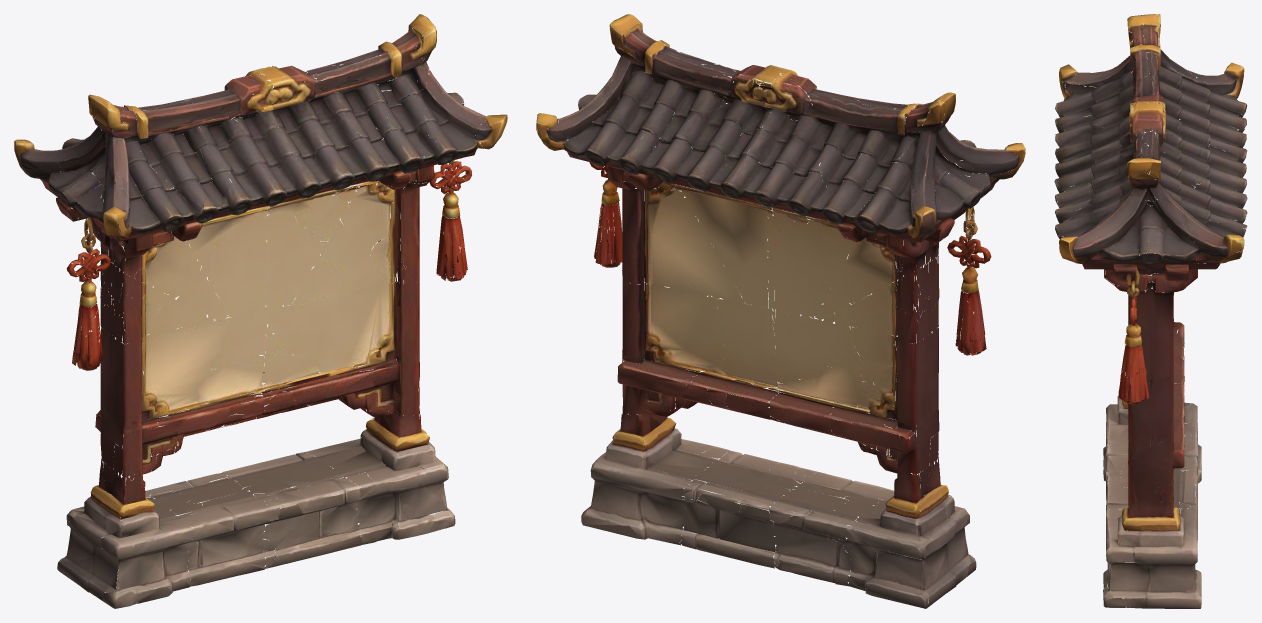
File: noticeboard_25k.glb
3 views of the same model, side by side, from view 1: azimuth 30°, elevation 25°; view 2: azimuth 150°, elevation 25°; view 3: azimuth 270°, elevation 25° (orthographic). The views are drawn at different scales.
Parts seen in each view (by area): view 1: tripo_node_c2bb1cac-0699-40c4-ae95-64babb6e7fb8; view 2: tripo_node_c2bb1cac-0699-40c4-ae95-64babb6e7fb8; view 3: tripo_node_c2bb1cac-0699-40c4-ae95-64babb6e7fb8.
Boxes of the visible parts, left/top/right/bottom form: tripo_node_c2bb1cac-0699-40c4-ae95-64babb6e7fb8: left=14, top=14, right=507, bottom=608; tripo_node_c2bb1cac-0699-40c4-ae95-64babb6e7fb8: left=536, top=14, right=1025, bottom=608; tripo_node_c2bb1cac-0699-40c4-ae95-64babb6e7fb8: left=1054, top=14, right=1247, bottom=608.
Size of the model in its own units: 0.843 by 0.979 by 0.3842.
1 material, 1 textured.
